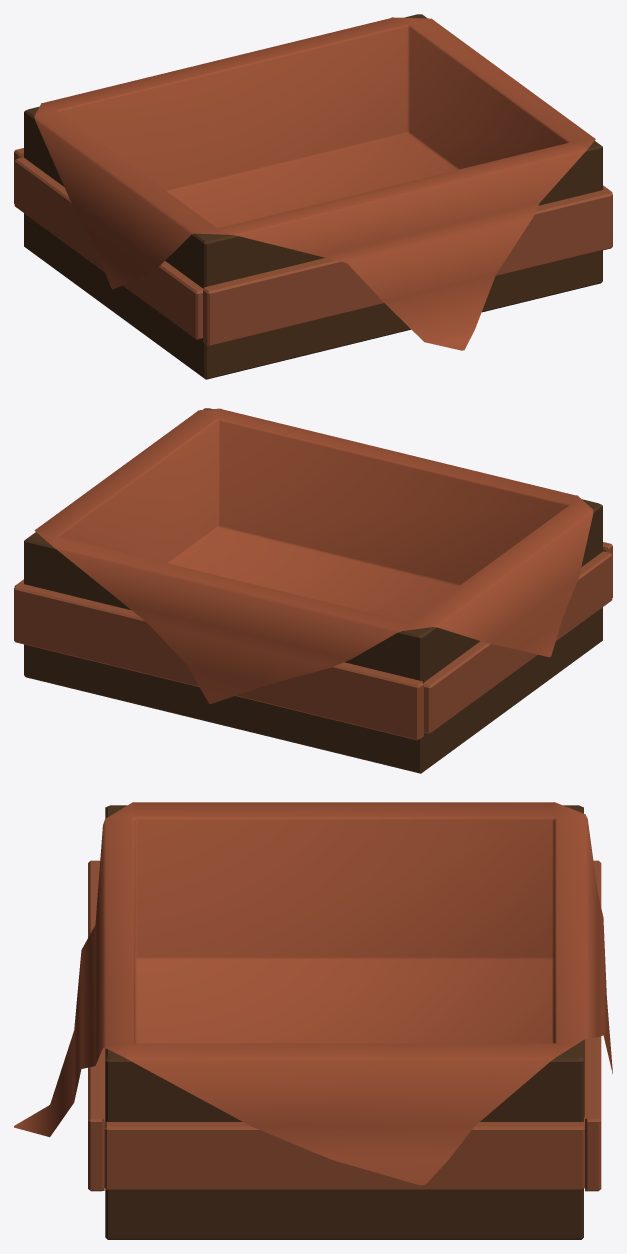
Rendered from crate_with_tarp.fbx.
3 renders of one model, top to bottom at view 1: azimuth 30°, elevation 25°; view 2: azimuth 150°, elevation 25°; view 3: azimuth 270°, elevation 25°, orthographic. The views are drawn at different scales.
Visible parts, largest first — view 1: crate; view 2: crate; view 3: crate.
Boxes of the visible parts, x1=… form: crate: x1=14, y1=14, x2=612, y2=379; crate: x1=14, y1=408, x2=612, y2=773; crate: x1=14, y1=802, x2=612, y2=1239.
Size of the model in its own units: 203 by 61.04 by 181.
